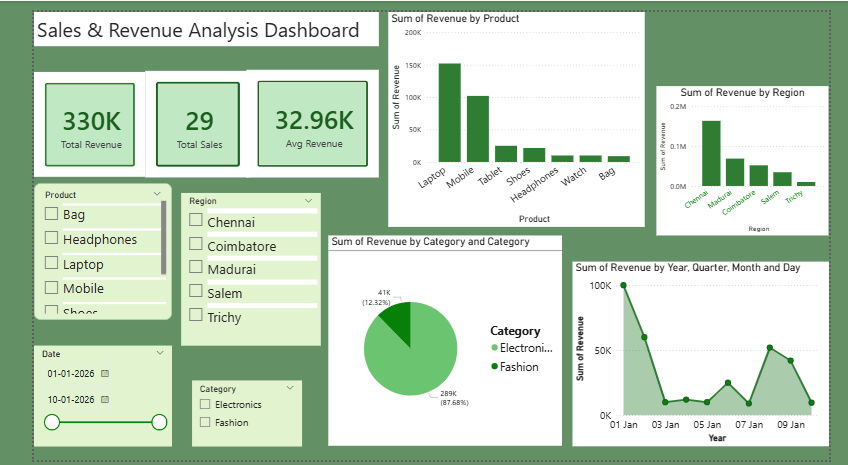

This screenshot's page, from the dashboard's own definition file:
{"tool":"powerbi","page":{"name":"Page 1","canvas":[1280,720],"ordinal":0},"visuals":[{"type":"cardVisual","fields":{"Data":["sales_dataset.Total Revenue"]},"box":[0,96.4,179.1,169.2],"z":0},{"type":"cardVisual","fields":{"Data":["sales_dataset.Total Sales"]},"box":[179.1,94.5,169.2,171.2],"z":1000},{"type":"cardVisual","fields":{"Data":["sales_dataset.Avg Revenue"]},"box":[342.4,92.5,212.5,173.2],"z":2000},{"type":"slicer","fields":{"Values":["sales_dataset.Date"]},"box":[0,537.2,222.4,161.4],"z":3000},{"type":"slicer","fields":{"Values":["sales_dataset.Product"]},"box":[0,275.5,222.4,220.4],"z":4000},{"type":"slicer","fields":{"Values":["sales_dataset.Category"]},"box":[253.8,592.3,177.1,106.3],"z":5000},{"type":"slicer","fields":{"Values":["sales_dataset.Region"]},"box":[236.1,291.2,224.3,246],"z":6000},{"type":"lineChart","fields":{"Y":["Sum(sales_dataset.Revenue)"],"Category":["sales_dataset.Date.Variation.Date Hierarchy.Year","sales_dataset.Date.Variation.Date Hierarchy.Quarter","sales_dataset.Date.Variation.Date Hierarchy.Month","sales_dataset.Date.Variation.Date Hierarchy.Day"]},"box":[865.8,401.4,413.2,297.1],"z":7000},{"type":"columnChart","fields":{"Category":["sales_dataset.Product"],"Y":["Sum(sales_dataset.Revenue)"]},"box":[570.7,0,413.2,346.3],"z":8000},{"type":"pieChart","fields":{"Category":["sales_dataset.Category"],"Y":["Sum(sales_dataset.Revenue)"],"Series":["sales_dataset.Category"]},"box":[474.2,360.1,375.8,338.5],"z":9000},{"type":"clusteredColumnChart","fields":{"Category":["sales_dataset.Region"],"Y":["Sum(sales_dataset.Revenue)"]},"box":[1001.6,120,277.5,240.1],"z":10000},{"type":"textbox","box":[0,0,554.9,55.1],"z":11000}]}

Visuals, with their boxes in screenshot pixels (x1, y1, x2, y2), scaled from the page's 1280x720 canvas onto the 848x465 screenshot:
cardVisual - sales_dataset.Total Revenue: 0, 62, 119, 172
cardVisual - sales_dataset.Total Sales: 119, 61, 231, 172
cardVisual - sales_dataset.Avg Revenue: 227, 60, 368, 172
slicer - sales_dataset.Date: 0, 347, 147, 451
slicer - sales_dataset.Product: 0, 178, 147, 320
slicer - sales_dataset.Category: 168, 383, 285, 451
slicer - sales_dataset.Region: 156, 188, 305, 347
lineChart - Sum(sales_dataset.Revenue) x sales_dataset.Date.Variation.Date Hierarchy.Year: 574, 259, 847, 451
columnChart - sales_dataset.Product x Sum(sales_dataset.Revenue): 378, 0, 652, 224
pieChart - sales_dataset.Category x Sum(sales_dataset.Revenue): 314, 233, 563, 451
clusteredColumnChart - sales_dataset.Region x Sum(sales_dataset.Revenue): 664, 78, 847, 233
textbox: 0, 0, 368, 36
